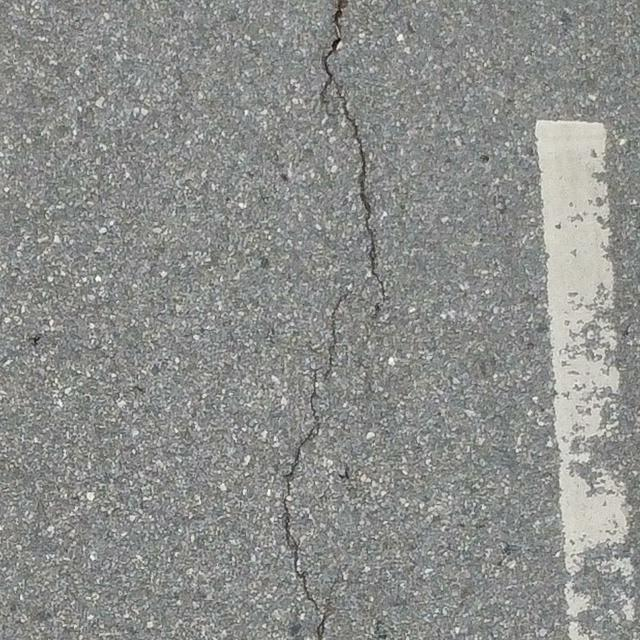LongitudinalCrack: (280, 293, 348, 640), (320, 1, 388, 300)
